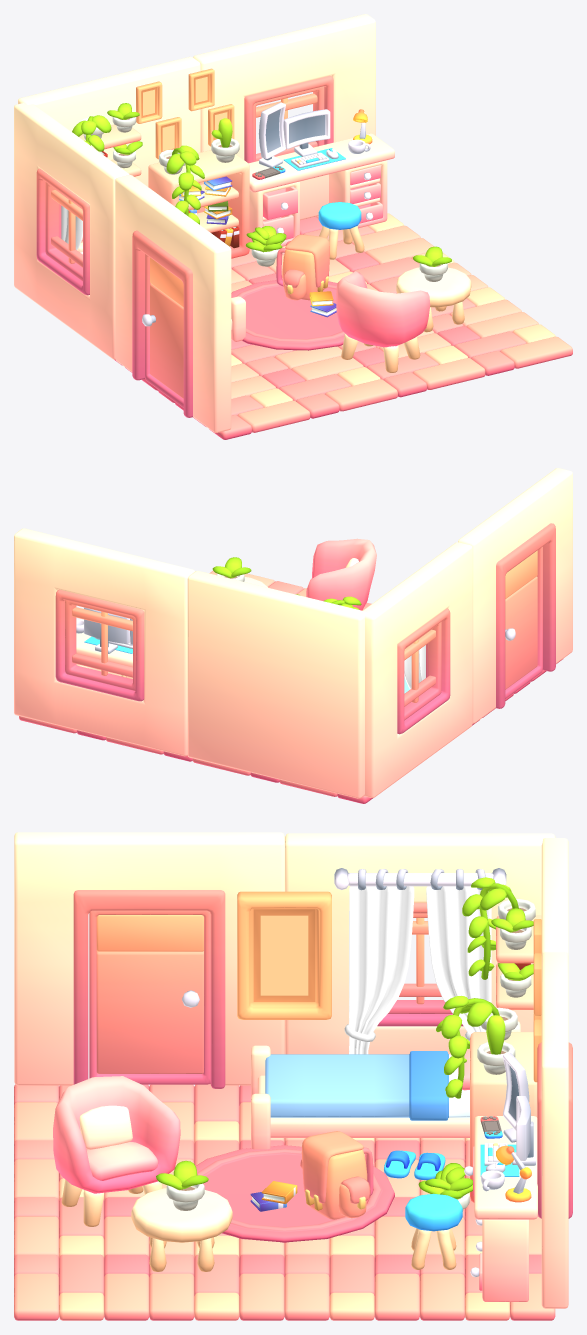
File: isometric_bedroom.glb
The picture shows the model from 3 angles, top to bottom: view 1: azimuth 30°, elevation 25°; view 2: azimuth 150°, elevation 25°; view 3: azimuth 270°, elevation 25°; orthographic projection. The views are drawn at different scales.
Visible parts, largest first — view 1: floor.001_35, wall_door.001_37, wall_window.001_38, wall_window.002_48, wall.001_40, chair.001_43, desk.001_44, rug.001_47, door.001_36, window.001_39, cabinet_01.001_42, window.002_49 (+18 smaller); view 2: wall.001_40, wall_window.002_48, wall_window.001_38, wall_door.001_37, window.002_49, door.001_36, window.001_39, chair.001_43, floor.001_35, computer_monitor_01_6, desk.001_44, plants_01.001_53 (+1 smaller); view 3: floor.001_35, wall_door.001_37, door.001_36, wall_window.001_38, bed.001_41, curtain.001_56, chair.001_43, frame.001_46, wall_window.002_48, rug.001_47, desk.001_44, bag_28 (+19 smaller).
Part boxes in pixels (x1=…): floor.001_35: x1=114, y1=213, x2=572, y2=439; wall_door.001_37: x1=115, y1=175, x2=231, y2=432; wall_window.001_38: x1=14, y1=103, x2=129, y2=359; wall_window.002_48: x1=193, y1=14, x2=375, y2=220; wall.001_40: x1=18, y1=56, x2=200, y2=242; chair.001_43: x1=335, y1=271, x2=430, y2=372; desk.001_44: x1=249, y1=133, x2=394, y2=246; rug.001_47: x1=231, y1=279, x2=344, y2=350; door.001_36: x1=142, y1=254, x2=183, y2=407; window.001_39: x1=36, y1=168, x2=89, y2=295; cabinet_01.001_42: x1=148, y1=150, x2=249, y2=258; window.002_49: x1=244, y1=76, x2=333, y2=163; wall.001_40: x1=187, y1=570, x2=367, y2=798; wall_window.002_48: x1=14, y1=528, x2=194, y2=756; wall_window.001_38: x1=363, y1=542, x2=472, y2=797; wall_door.001_37: x1=458, y1=468, x2=572, y2=723; window.002_49: x1=55, y1=589, x2=144, y2=701; door.001_36: x1=505, y1=546, x2=542, y2=698; window.001_39: x1=397, y1=608, x2=450, y2=734; chair.001_43: x1=306, y1=538, x2=376, y2=610; floor.001_35: x1=19, y1=571, x2=562, y2=803; computer_monitor_01_6: x1=84, y1=607, x2=130, y2=653; desk.001_44: x1=76, y1=632, x2=132, y2=678; plants_01.001_53: x1=212, y1=557, x2=251, y2=581; floor.001_35: x1=14, y1=1084, x2=555, y2=1320; wall_door.001_37: x1=14, y1=832, x2=284, y2=1088; door.001_36: x1=89, y1=910, x2=210, y2=1084; wall_window.001_38: x1=285, y1=833, x2=555, y2=1054; bed.001_41: x1=251, y1=1021, x2=520, y2=1149; curtain.001_56: x1=334, y1=868, x2=506, y2=1054; chair.001_43: x1=53, y1=1076, x2=180, y2=1226; frame.001_46: x1=237, y1=891, x2=331, y2=1019; wall_window.002_48: x1=541, y1=952, x2=568, y2=1308; rug.001_47: x1=195, y1=1145, x2=394, y2=1242; desk.001_44: x1=474, y1=1116, x2=537, y2=1301; bag_28: x1=300, y1=1131, x2=373, y2=1219.
Bounding box in the file's own units: 4.16 × 2.1 × 4.13.
1 material, 1 textured.
